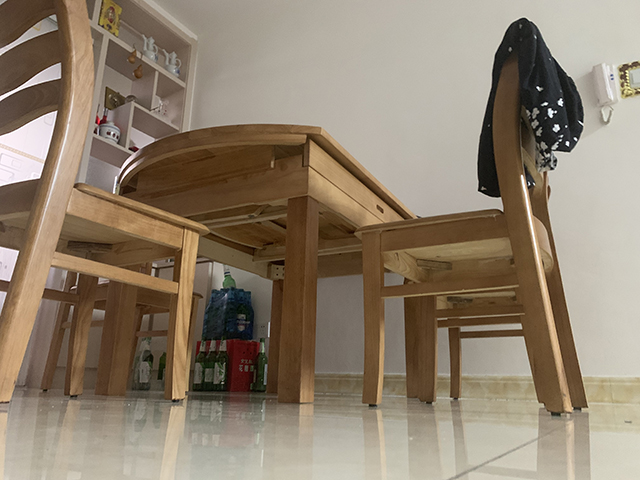stool: (353, 39, 590, 418), (1, 1, 213, 405), (39, 254, 205, 393)
table: (92, 123, 427, 405)
